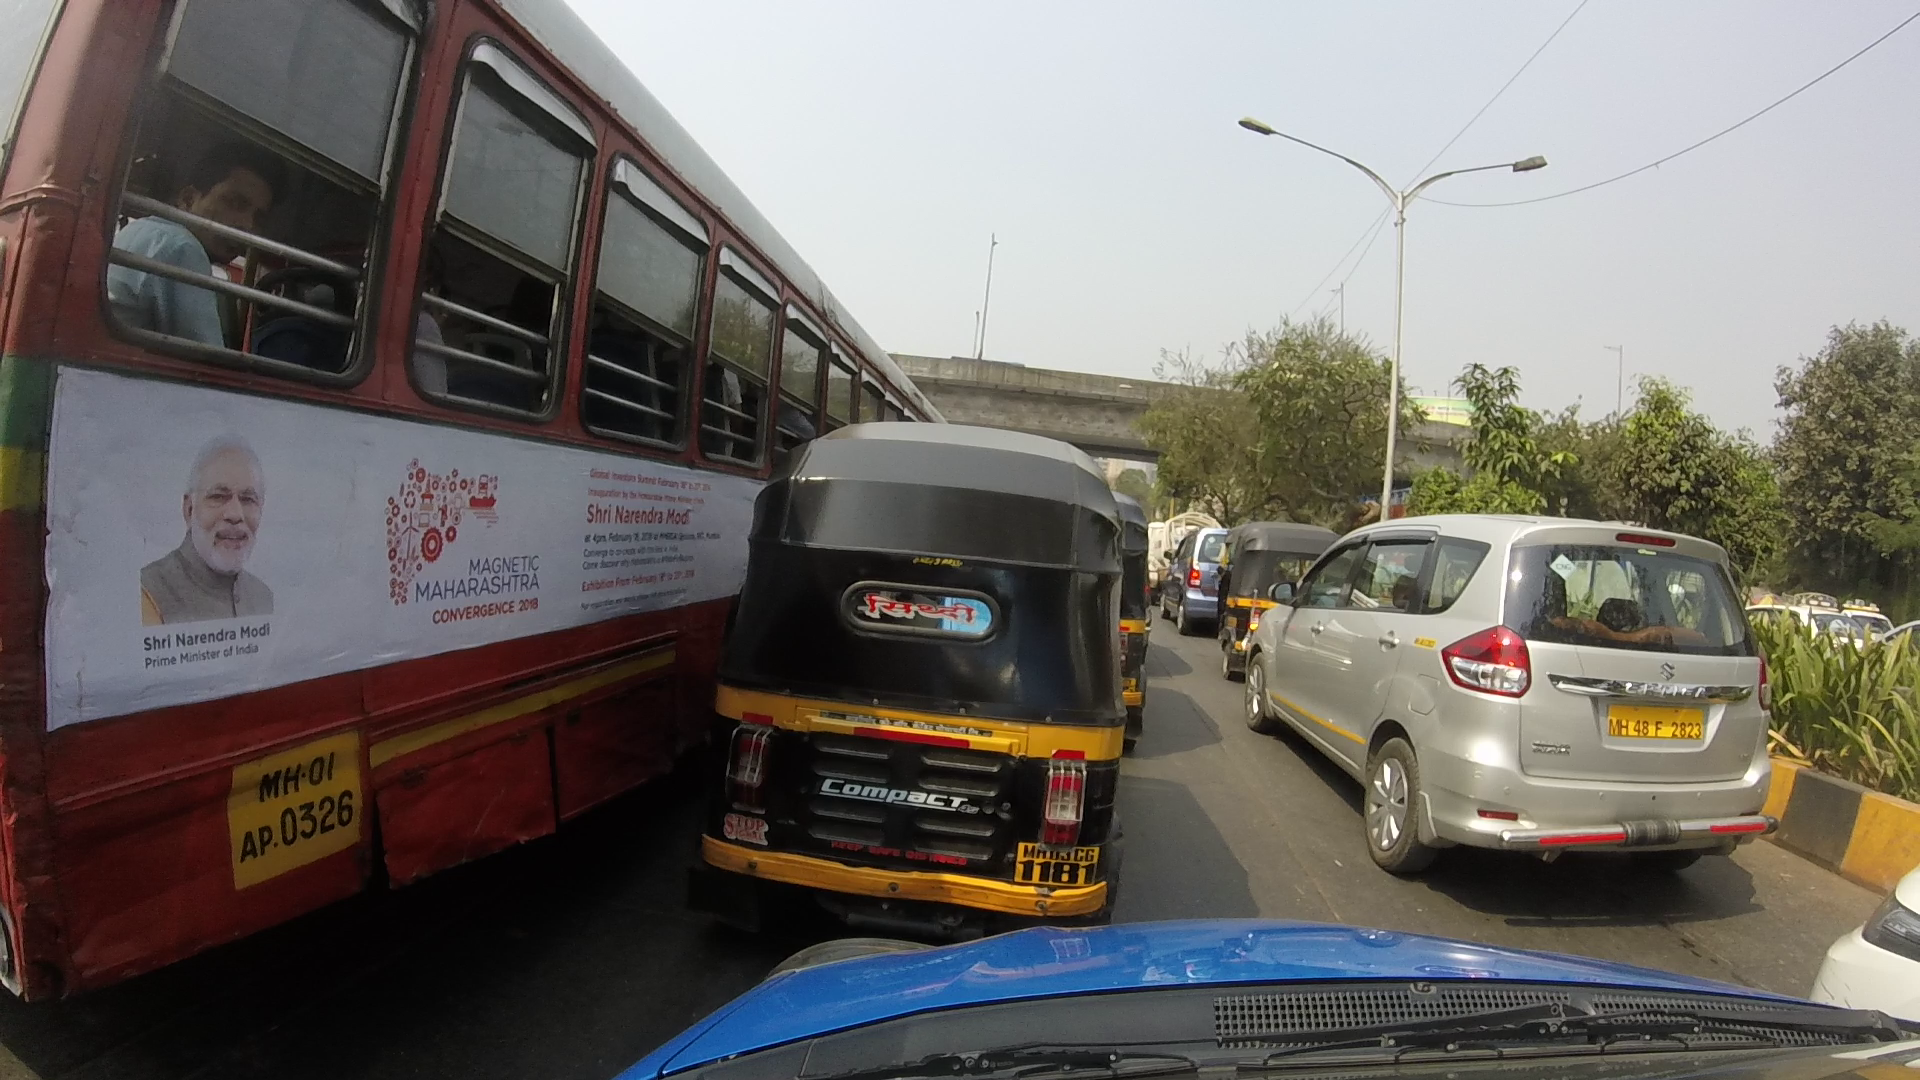bus: (22, 7, 924, 919)
car: (1255, 513, 1758, 866), (1158, 533, 1218, 624)
rickshaw: (725, 410, 1116, 922), (1087, 489, 1155, 757), (1218, 527, 1316, 676)
